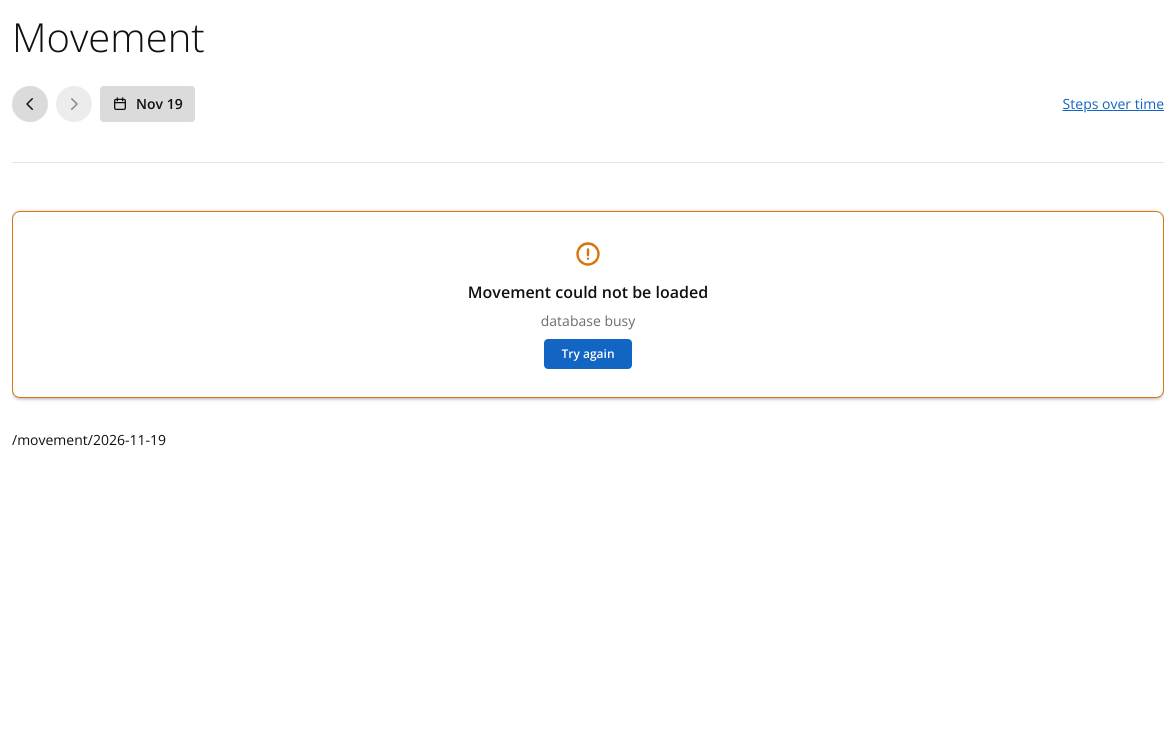
Test: MovementPage (3i) › shows a loading state, then an error with a retry
Later steps or results of the test are not shown.
expect the message shows "database busy": met, box [541, 311, 635, 330]
What coordinates should you click on to do the following:
click the button "Try again"
I would click on:
 (588, 354)
Its box is [544, 339, 632, 369].
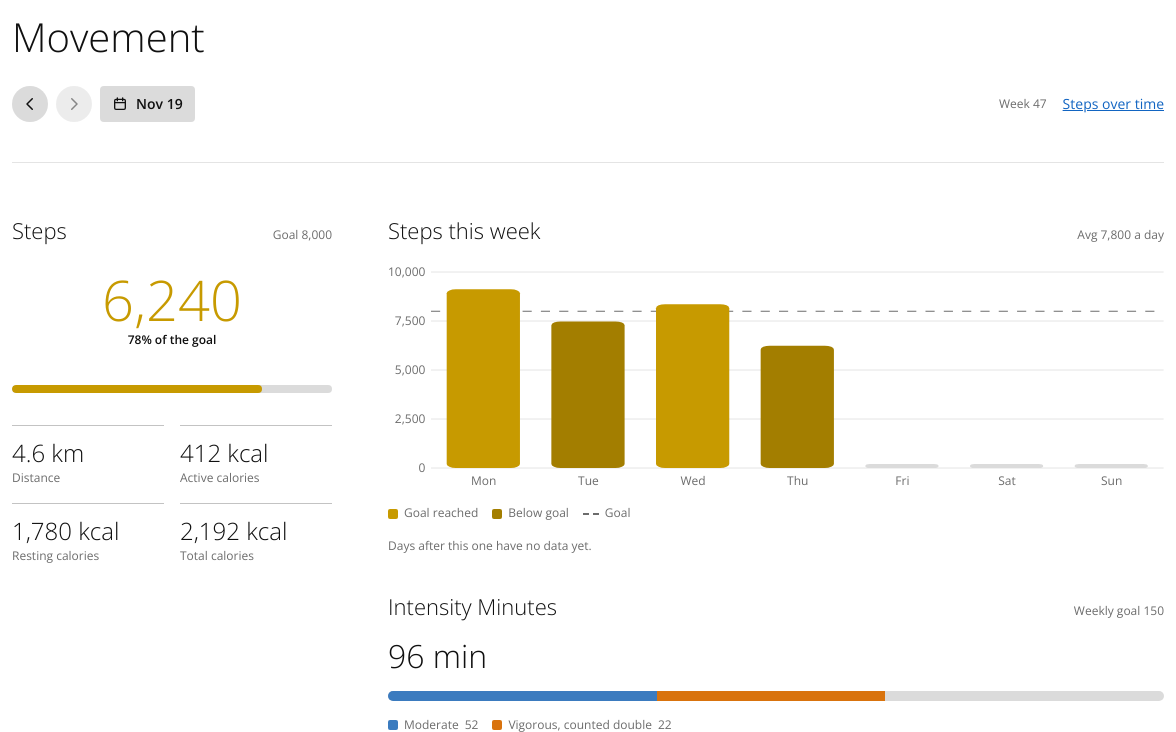
expect the text "6,240" is shown: met, box [102, 269, 242, 330]
